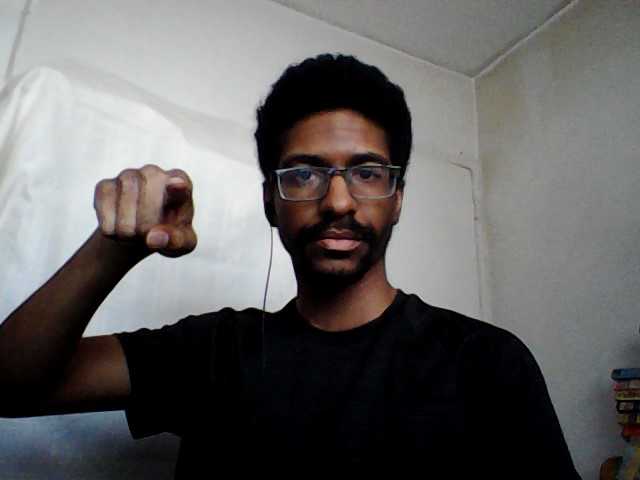z: (88, 160, 201, 261)
